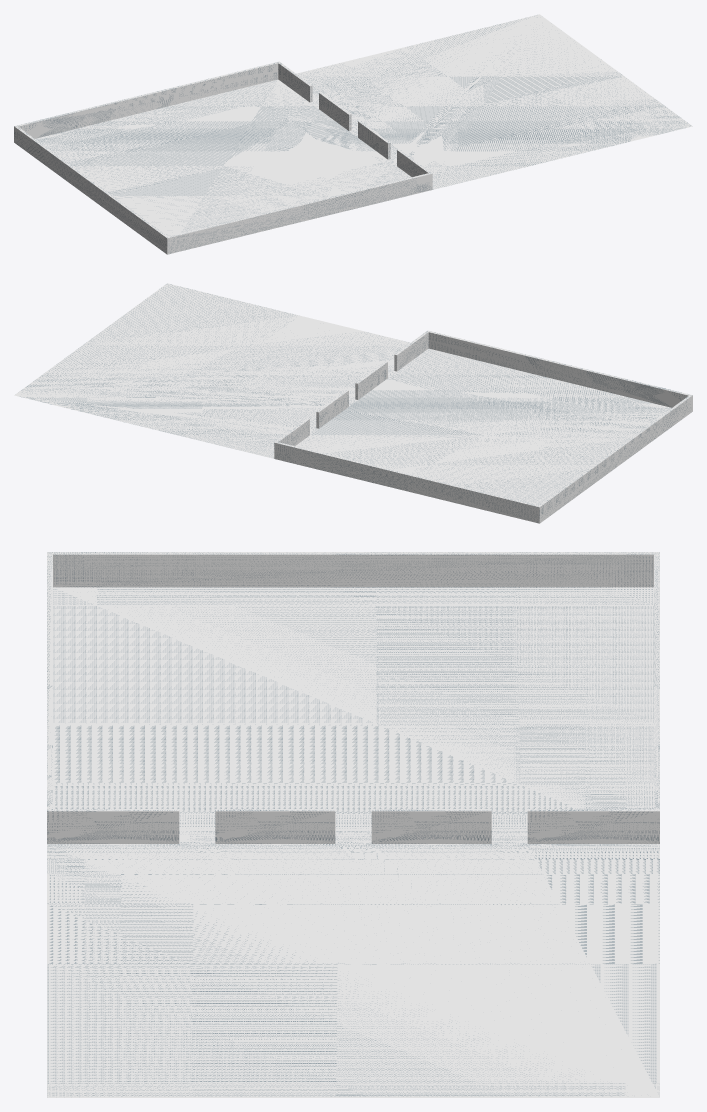
The model's file is TestBuildingBlenderExport.obj.
The picture shows the model from 3 angles, top to bottom: view 1: azimuth 30°, elevation 25°; view 2: azimuth 150°, elevation 25°; view 3: azimuth 270°, elevation 25°; orthographic projection. The views are drawn at different scales.
Visible parts, largest first — view 1: SketchUp_ID3, SketchUp.001_ID17, SketchUp.002_ID25; view 2: SketchUp_ID3, SketchUp.001_ID17, SketchUp.002_ID25; view 3: SketchUp_ID3, SketchUp.001_ID17, SketchUp.002_ID25.
Part boxes in pixels (x1,y1,x2,y2): SketchUp_ID3: (14,14,692,254); SketchUp.001_ID17: (319,92,351,130); SketchUp.002_ID25: (358,121,390,159); SketchUp_ID3: (14,283,692,523); SketchUp.001_ID17: (316,390,348,428); SketchUp.002_ID25: (355,361,387,399); SketchUp_ID3: (47,552,659,1097); SketchUp.001_ID17: (371,808,491,843); SketchUp.002_ID25: (215,808,335,843).
Bounding box in the file's own units: 101 × 3 × 51.
